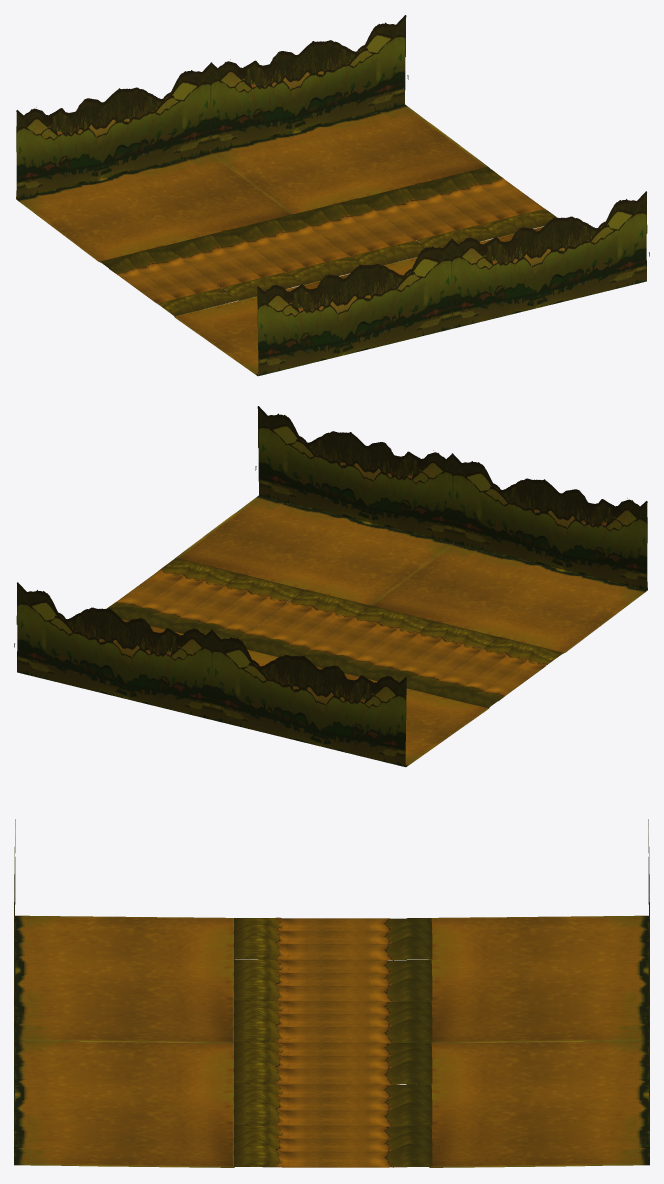
File: stage2_heigen.fbx
3 renders of one model, top to bottom at view 1: azimuth 30°, elevation 25°; view 2: azimuth 150°, elevation 25°; view 3: azimuth 270°, elevation 25°, orthographic. The views are drawn at different scales.
Parts seen in each view (by area): view 1: grid32, grid31, polymsh_detached8, polymsh_detached5, polymsh_detached, polymsh_detached6, polymsh_detached7, polymsh_detached4; view 2: grid32, grid31, polymsh_detached8, polymsh_detached5, polymsh_detached, polymsh_detached6, polymsh_detached7, polymsh_detached4; view 3: grid32, grid31, polymsh_detached, polymsh_detached8, polymsh_detached5, polymsh_detached4, polymsh_detached7, polymsh_detached6.
Part boxes in pixels (left/top/right/bottom): grid32: left=16, top=62, right=455, bottom=376; grid31: left=210, top=15, right=649, bottom=328; polymsh_detached8: left=100, top=245, right=239, bottom=316; polymsh_detached5: left=294, top=198, right=425, bottom=265; polymsh_detached: left=424, top=166, right=557, bottom=237; polymsh_detached6: left=230, top=214, right=363, bottom=284; polymsh_detached7: left=165, top=229, right=303, bottom=300; polymsh_detached4: left=359, top=182, right=497, bottom=248; grid32: left=210, top=453, right=647, bottom=767; grid31: left=14, top=406, right=453, bottom=719; polymsh_detached8: left=423, top=637, right=563, bottom=708; polymsh_detached5: left=238, top=589, right=368, bottom=656; polymsh_detached: left=106, top=558, right=239, bottom=628; polymsh_detached6: left=300, top=605, right=433, bottom=676; polymsh_detached7: left=358, top=621, right=497, bottom=692; polymsh_detached4: left=164, top=573, right=303, bottom=639; grid32: left=14, top=819, right=649, bottom=1043; grid31: left=14, top=944, right=649, bottom=1167; polymsh_detached: left=233, top=1125, right=432, bottom=1167; polymsh_detached8: left=233, top=917, right=432, bottom=960; polymsh_detached5: left=233, top=1042, right=432, bottom=1084; polymsh_detached4: left=233, top=1084, right=432, bottom=1126; polymsh_detached7: left=233, top=959, right=432, bottom=1001; polymsh_detached6: left=233, top=1000, right=432, bottom=1042.
Size of the model in its own units: 26.64 by 5.94 by 28.31.
